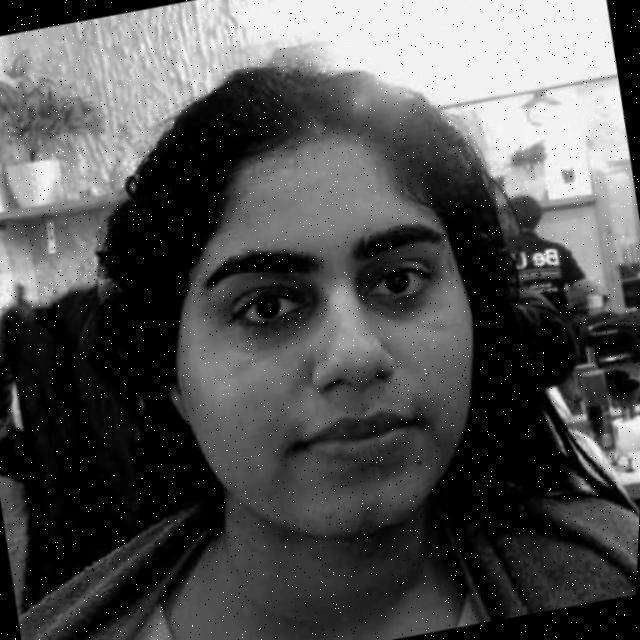puffy_eyes: (227, 305, 319, 355), (362, 294, 438, 316)
